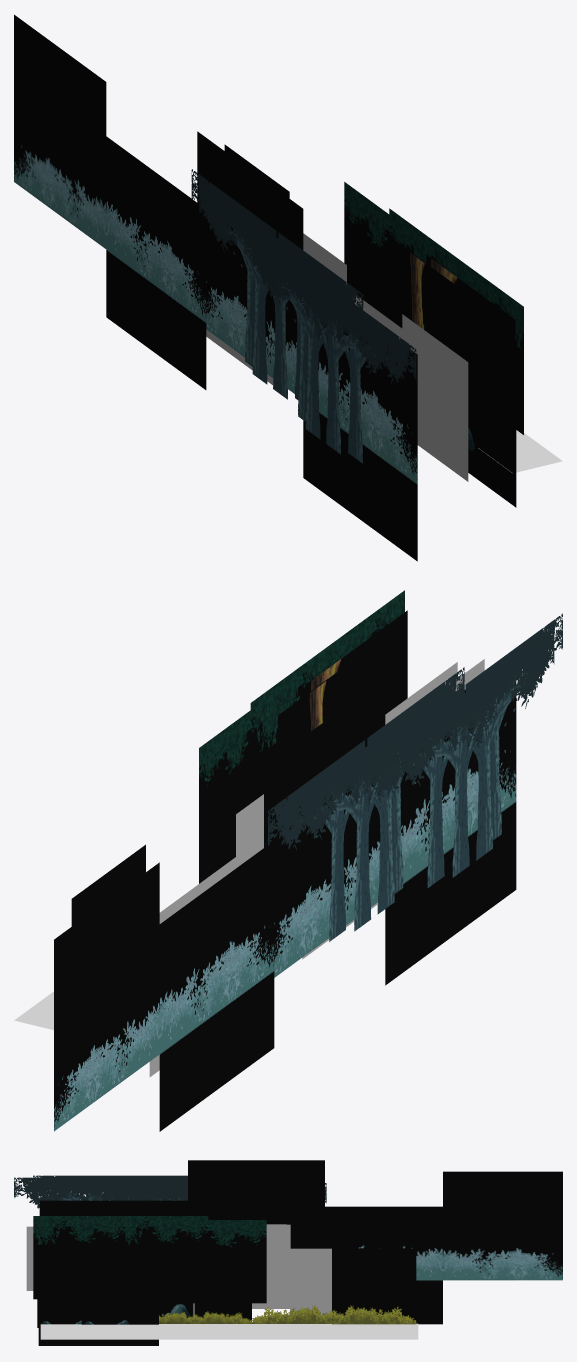
Rendered from ENVIRONMENT.fbx.
3 views of the same model, one above another, from view 1: azimuth 30°, elevation 25°; view 2: azimuth 150°, elevation 25°; view 3: azimuth 270°, elevation 25° (orthographic). The views are drawn at different scales.
Parts seen in each view (by area): view 1: Enviroment-2.001, Enviroment-2, Enviroment-3.001, Enviroment-3.002, Enviroment-5, Enviroment-1 (1), Enviroment-6, Enviroment-4.002, Enviroment-5.001, Enviroment-4, Enviroment-4 (1), Enviroment-4.001 (+3 smaller); view 2: Enviroment-2.001, Enviroment-2, Enviroment-3.001, Enviroment-3.002, Enviroment-4.002, Enviroment-5, Enviroment-4 (1).001, Enviroment-5.001, Enviroment-7.002, Enviroment-6, Enviroment-4.001, Enviroment-4 (+3 smaller); view 3: Enviroment-2.001, Enviroment-2, Enviroment-4, Enviroment-7.002, Enviroment-4.001, Ilustración_sin_título, Enviroment-4.002, Enviroment-4 (1).001, Enviroment-3.001, Enviroment-9.001, Enviroment-3.002, Enviroment-7.001 (+3 smaller).
Boxes of the visible parts, x1,y1,x2,y2 form: Enviroment-2.001: (14,14,206,389); Enviroment-2: (197,131,417,561); Enviroment-3.001: (244,224,416,463); Enviroment-3.002: (191,169,363,399); Enviroment-5: (426,255,515,481); Enviroment-1 (1): (410,335,465,473); Enviroment-6: (388,236,478,464); Enviroment-4.002: (344,182,414,301); Enviroment-5.001: (407,251,456,353); Enviroment-4: (453,257,523,434); Enviroment-4 (1): (402,314,468,481); Enviroment-4.001: (389,208,460,278); Enviroment-2.001: (54,841,274,1131); Enviroment-2: (264,677,516,985); Enviroment-3.001: (366,613,562,887); Enviroment-3.002: (268,667,464,941); Enviroment-4.002: (199,689,280,883); Enviroment-5: (305,610,407,714); Enviroment-4 (1).001: (149,794,263,1076); Enviroment-5.001: (306,654,362,734); Enviroment-7.002: (71,844,145,926); Enviroment-6: (278,640,380,755); Enviroment-4.001: (250,644,331,803); Enviroment-4: (323,590,404,670); Enviroment-2.001: (325,1171,562,1324); Enviroment-2: (39,1160,324,1248); Enviroment-4: (33,1216,125,1299); Enviroment-7.002: (249,1248,416,1324); Enviroment-4.001: (125,1216,208,1299); Ilustración_sin_título: (40,1323,418,1339); Enviroment-4.002: (174,1220,266,1303); Enviroment-4 (1).001: (252,1224,331,1316); Enviroment-3.001: (14,1175,187,1208); Enviroment-9.001: (81,1299,158,1345); Enviroment-3.002: (104,1180,326,1203); Enviroment-7.001: (159,1303,251,1323).
Size of the model in its own units: 696 by 1026 by 2925.
